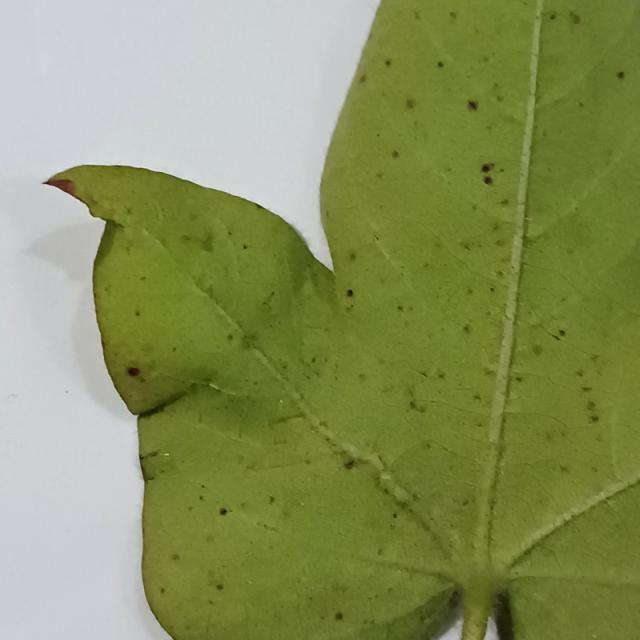Bacterial_Blight: (405, 358, 473, 413), (473, 156, 502, 193), (197, 232, 217, 254), (408, 395, 428, 413), (208, 570, 225, 591), (585, 401, 600, 424), (262, 289, 276, 308), (331, 582, 349, 594), (549, 330, 565, 342), (179, 233, 193, 246), (569, 11, 581, 24), (483, 365, 496, 376), (532, 344, 543, 356), (586, 400, 597, 411), (589, 353, 601, 363), (405, 98, 415, 109), (467, 100, 478, 110), (344, 459, 355, 469), (253, 202, 266, 210), (205, 534, 215, 544), (408, 400, 417, 411), (128, 367, 139, 376), (348, 251, 357, 261), (437, 369, 446, 379), (413, 10, 422, 20), (334, 612, 343, 621), (559, 464, 568, 473), (496, 270, 505, 279), (463, 324, 471, 334), (581, 386, 592, 393), (219, 508, 228, 516), (616, 71, 625, 79), (449, 11, 457, 20), (375, 171, 384, 179), (171, 553, 180, 561), (382, 487, 390, 496), (358, 372, 366, 381), (391, 150, 399, 158), (346, 289, 354, 297), (549, 13, 557, 21), (269, 495, 276, 504), (359, 74, 366, 83), (377, 547, 384, 556), (558, 329, 566, 336), (385, 59, 392, 67), (227, 333, 234, 341), (515, 376, 523, 383), (437, 61, 444, 68), (397, 305, 404, 312), (134, 310, 141, 317), (139, 275, 147, 281), (311, 356, 317, 364), (159, 587, 165, 594), (199, 494, 205, 501), (392, 512, 398, 518), (242, 244, 248, 250), (489, 287, 495, 293), (374, 235, 379, 242), (172, 346, 177, 352)
Cotton: (57, 0, 639, 639)
